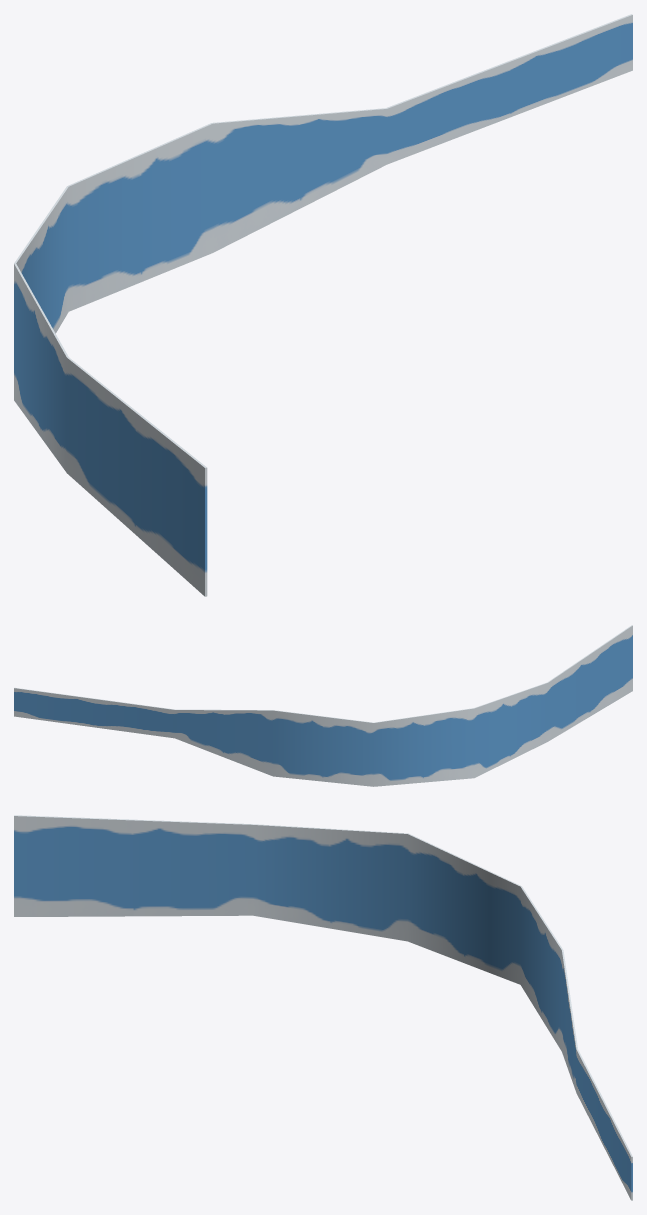
File: Water_Mill_Pond_Flow.fbx
The picture shows the model from 3 angles, top to bottom: view 1: azimuth 30°, elevation 25°; view 2: azimuth 150°, elevation 25°; view 3: azimuth 270°, elevation 25°; orthographic projection. The views are drawn at different scales.
Visible parts, largest first — view 1: WaterMill_WaterFlow; view 2: WaterMill_WaterFlow; view 3: WaterMill_WaterFlow.
Boxes of the visible parts, left/top/right/bottom form: WaterMill_WaterFlow: left=14, top=14, right=632, bottom=596; WaterMill_WaterFlow: left=14, top=625, right=632, bottom=786; WaterMill_WaterFlow: left=14, top=815, right=632, bottom=1200.
Bounding box in the file's own units: 62.1 × 9.89 × 51.64.
